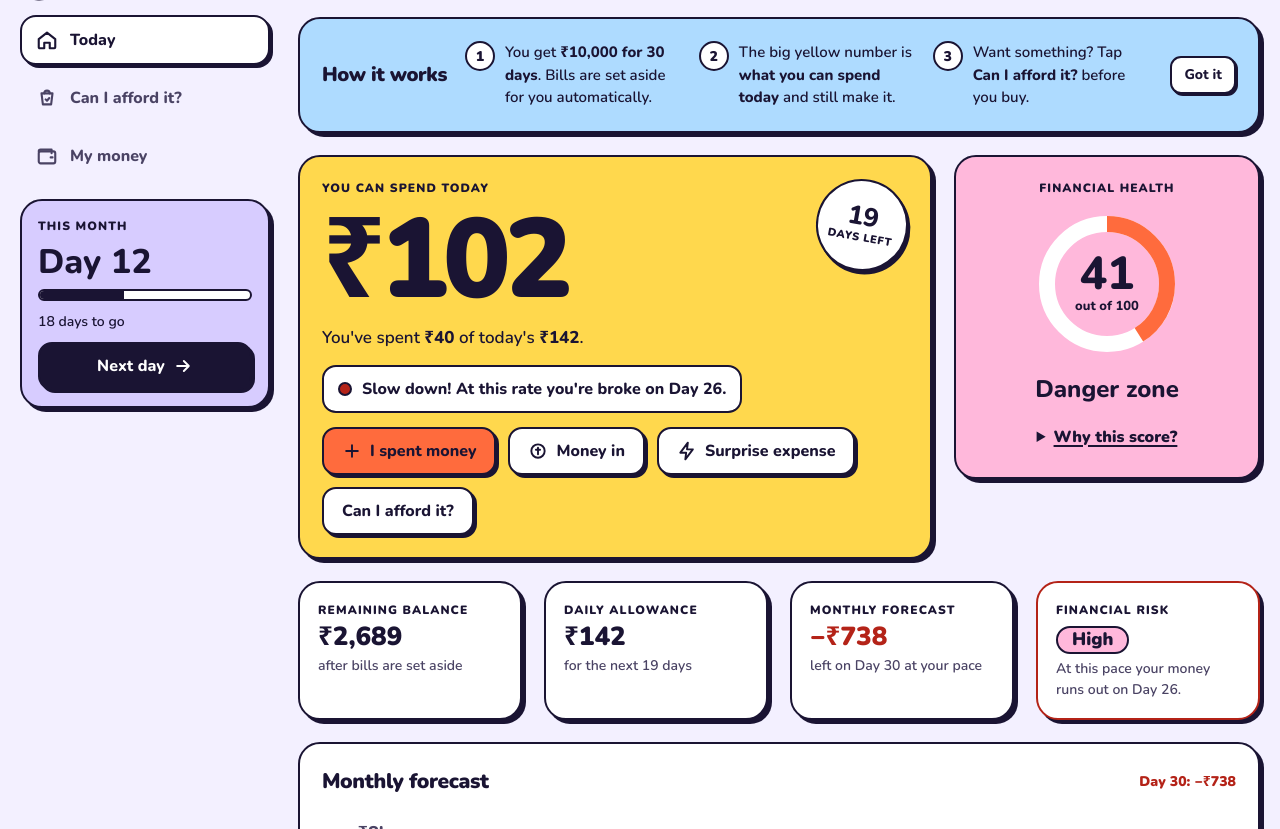
Test case: Today › stores hostile text as plain text, never as markup
Click the button "I spent money" at (409, 451), box top-left (322, 427), bottom-right (496, 475)
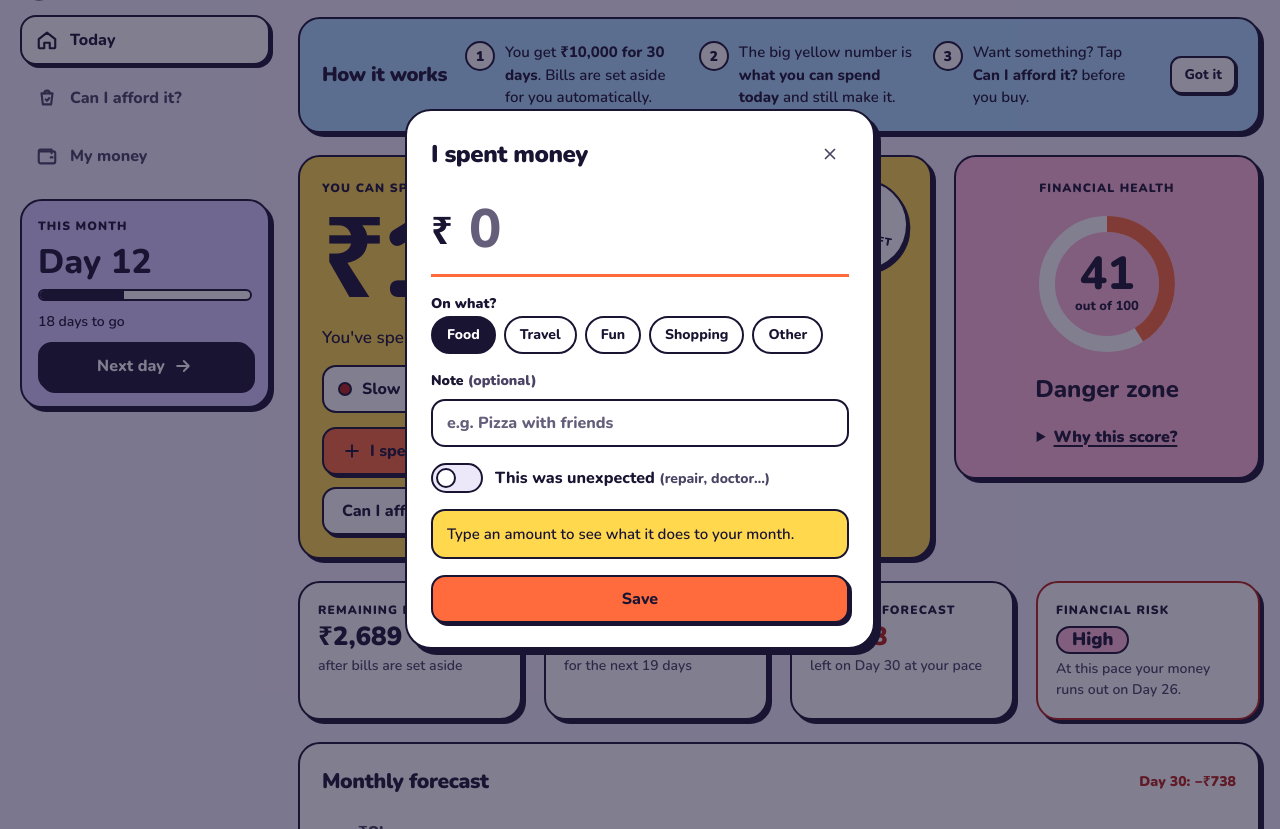
Now the dialog is shown, box top-left (405, 109), bottom-right (875, 649)
Type "10" into the field named "Amount in rupees" at (640, 231), box top-left (431, 189), bottom-right (849, 274)
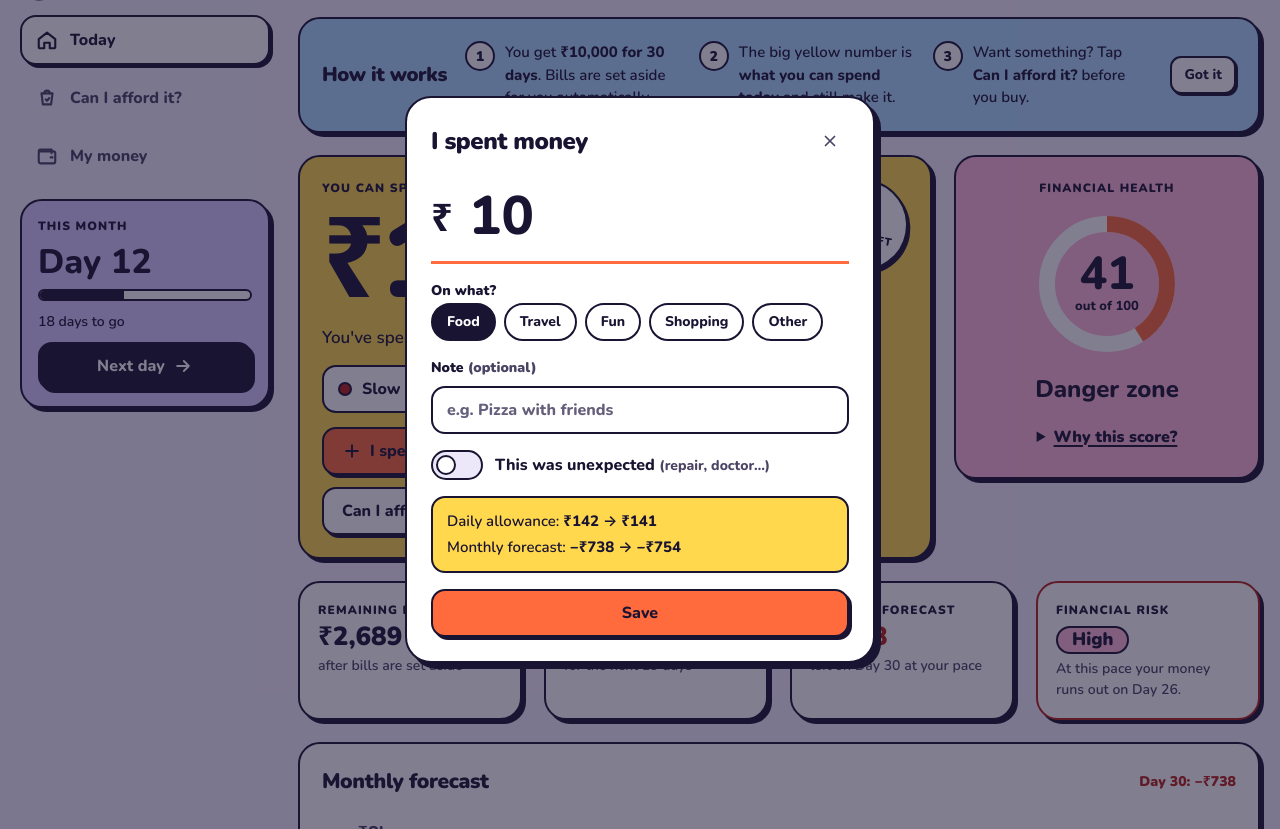
Type "<img src=x onerror=alert(1)>" into the field labelled "Note (optional)" at (640, 410), box top-left (431, 386), bottom-right (849, 434)
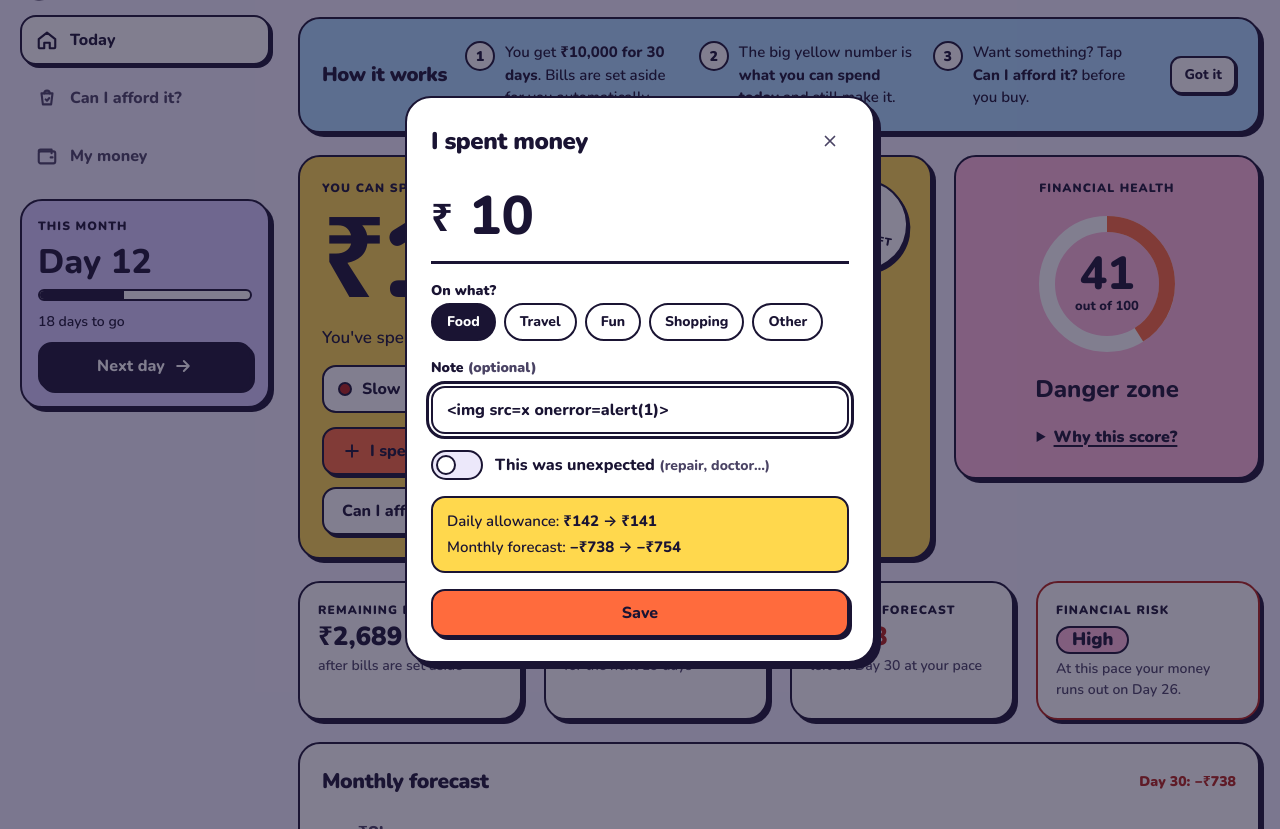
Click the button "Save" at (640, 612), box top-left (431, 588), bottom-right (849, 636)
(page scrolled)
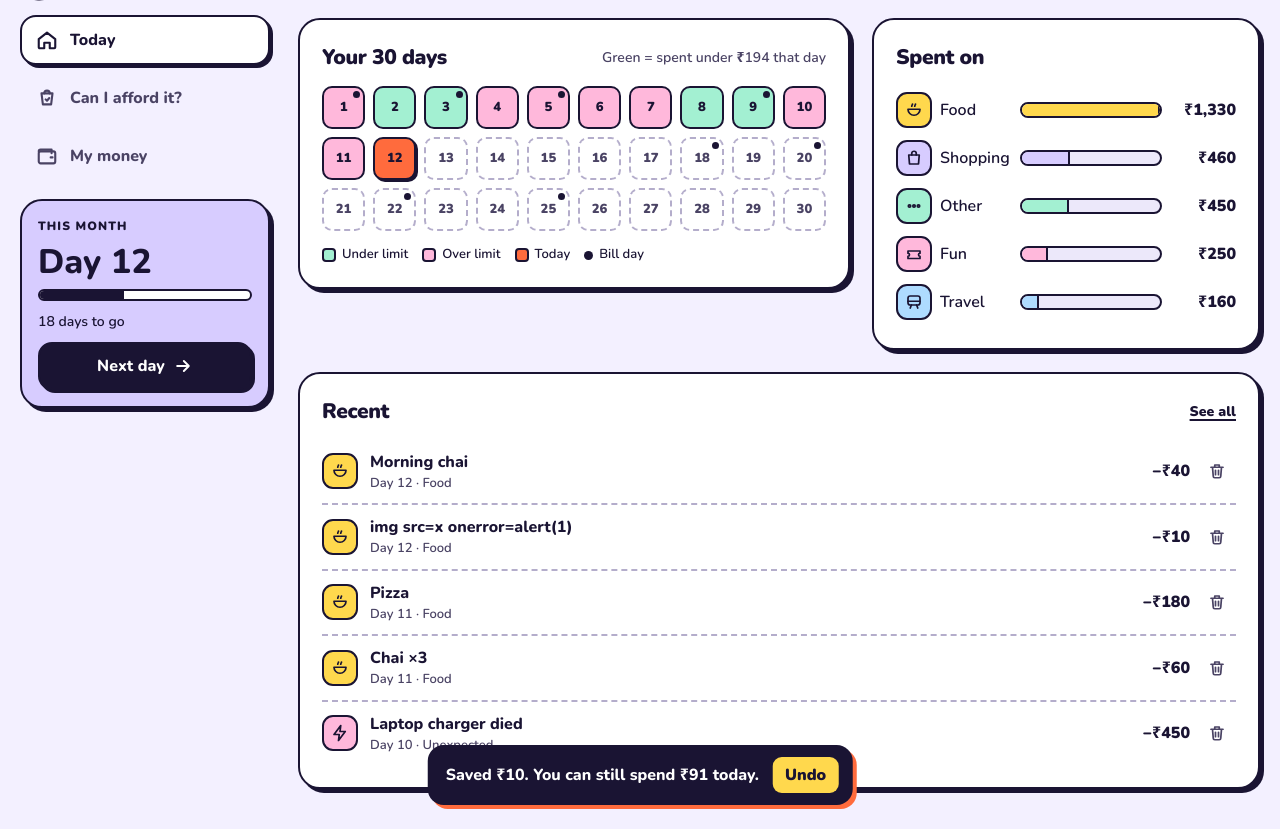
Now the text "img src=x onerror=alert(1)" is shown, box top-left (370, 515), bottom-right (573, 539)
